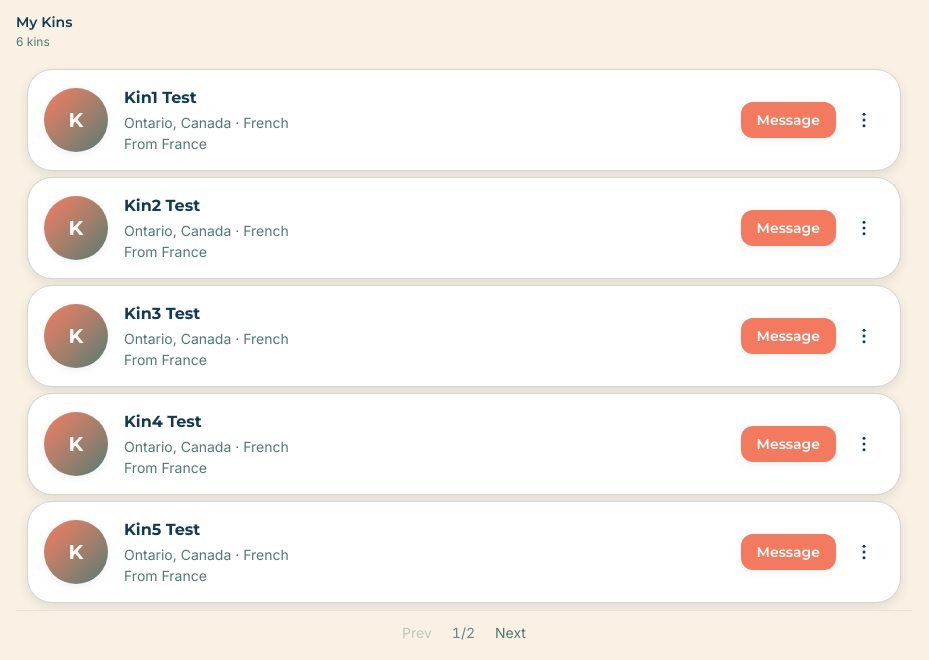
Test: ConnectionsList › paginates 6 connections and navigates with Previous / Next
Expected: the heading "Kin1 Test" is shown, [124,88,197,107]
Expected: the heading "Kin5 Test" is shown, [124,520,200,539]
Click the button with aria-label "next page" at (510, 633), box [495,623,526,643]
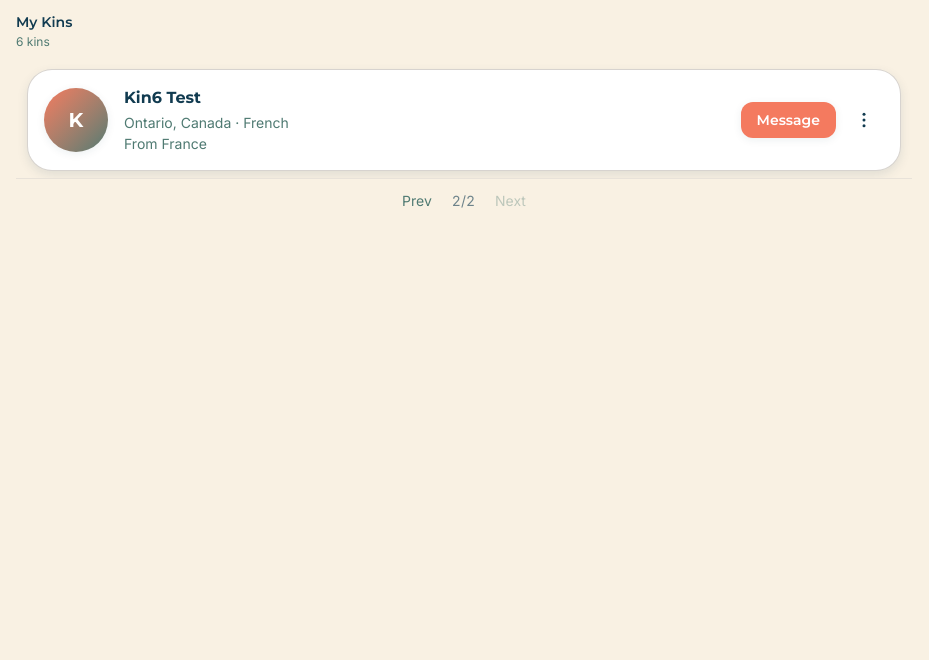
Now the heading "Kin6 Test" is shown, box [124,88,201,107]
Now the link "Kin1 Test" is gone
Now the navigation bar named "connections pagination" shows "2/2", box [16,178,912,211]
Click the button with aria-label "previous page" at (417, 201), box [402,191,432,211]
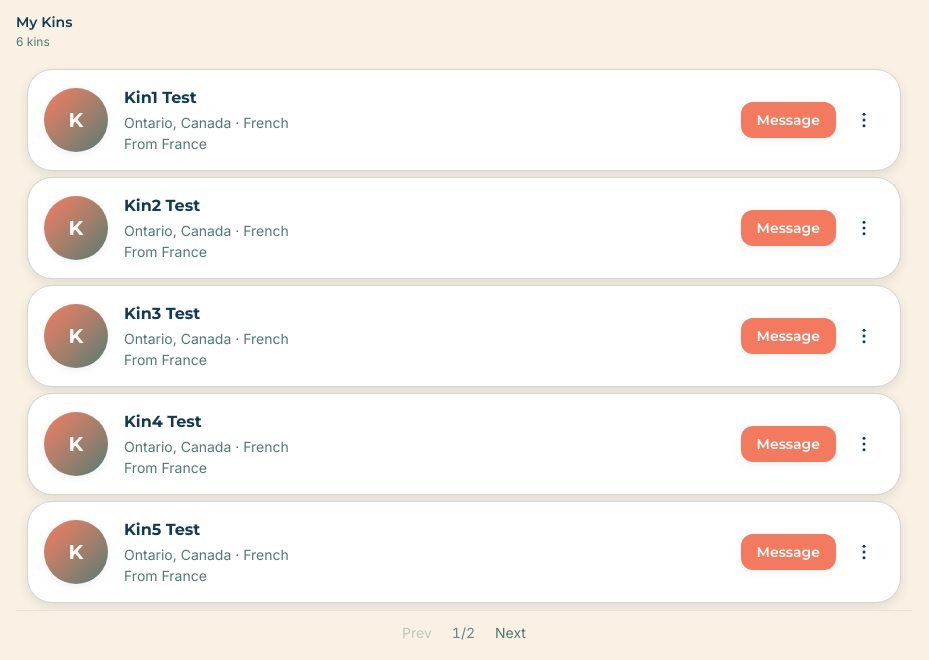
Now the heading "Kin1 Test" is shown, box [124,88,197,107]
Now the link "Kin6 Test" is gone
